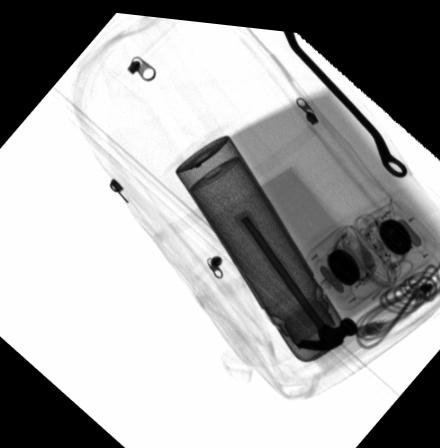Hammer: (231, 203, 359, 345)
Wrench: (283, 25, 407, 169)
